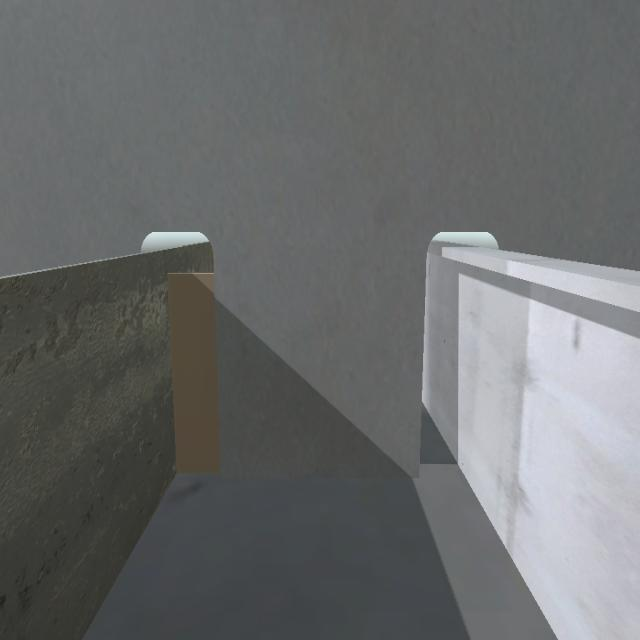fillet_yong_jeop_jang: (170, 471, 422, 482)
longi_yong_jeop_jang: (163, 268, 180, 482)
plate_behind: (165, 276, 216, 478)
